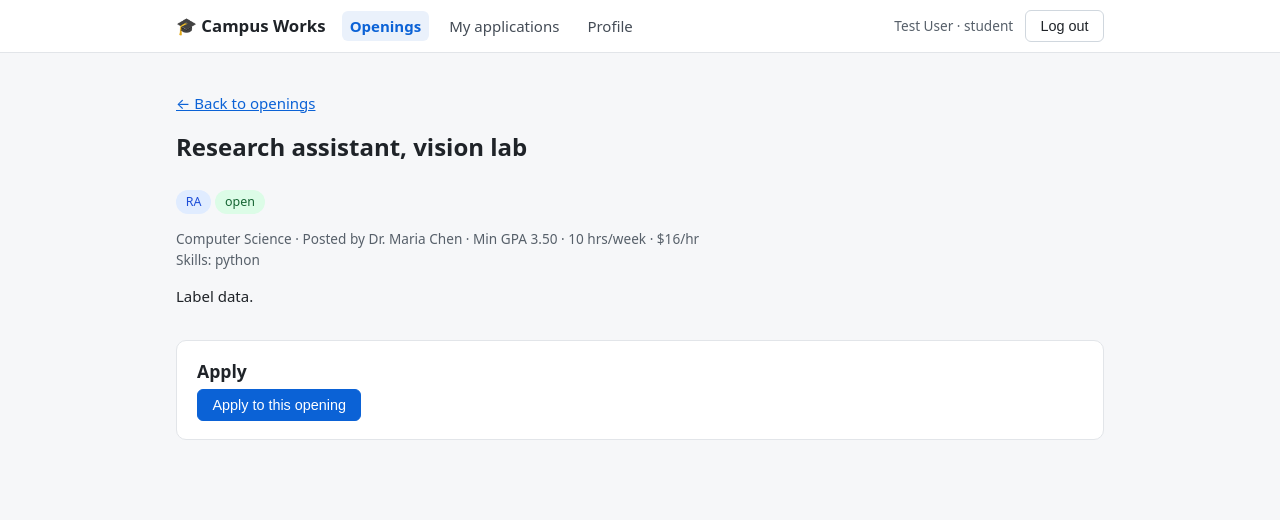
Scenario: student below the bar sees the reason from the api
Expected: the heading "Research assistant, vision lab" is shown, [176, 129, 527, 165]
Click the button "Apply to this opening".
click(279, 405)  # box [197, 389, 361, 421]
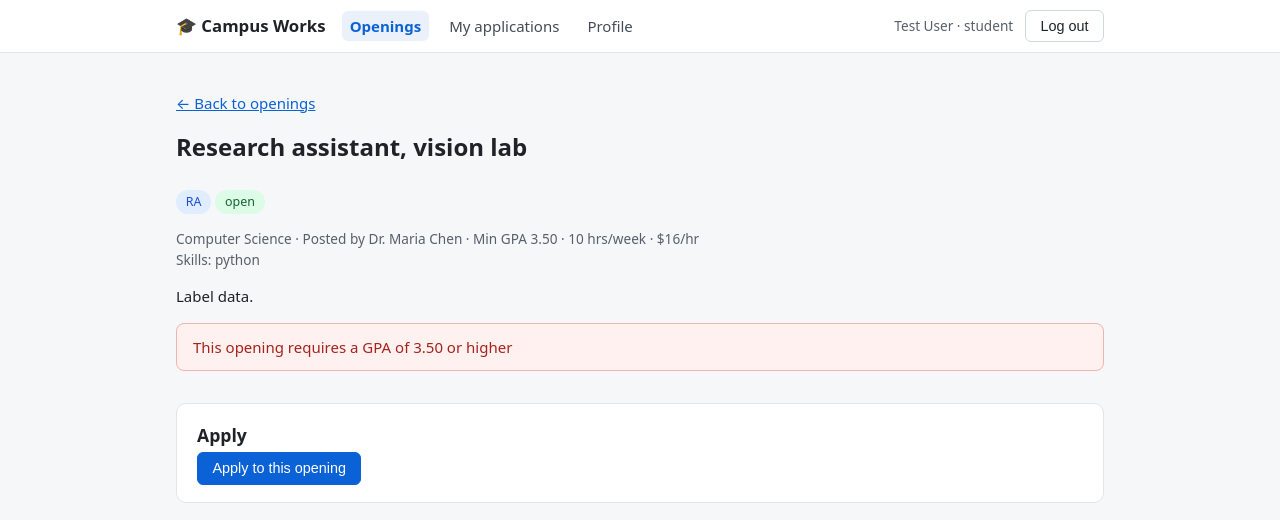
Expected: the message reads "This opening requires a GPA of 3.50 or higher", [193, 337, 512, 357]
